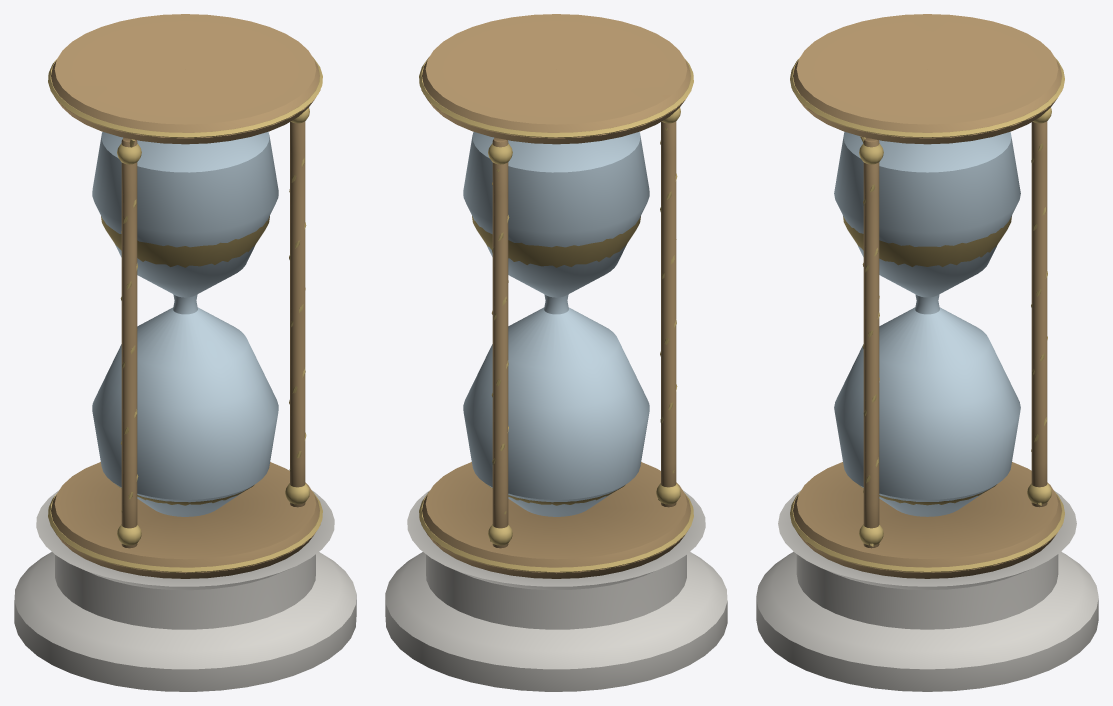
Rendered from obj_kit_hourglass.glb.
The picture shows the model from 3 angles, left to right: view 1: azimuth 30°, elevation 25°; view 2: azimuth 150°, elevation 25°; view 3: azimuth 270°, elevation 25°; orthographic projection.
Visible parts, largest first — view 1: glass, base, plate.001, plate, Cylinder.001, Cylinder.002, sandT, Torus, Torus.001; view 2: glass, base, plate.001, plate, Cylinder, Cylinder.001, sandT, Torus, Torus.001; view 3: glass, base, plate.001, plate, Cylinder.002, Cylinder, sandT, Torus.001, Torus.
Part boxes in pixels (left/top/right/bottom): glass: left=92, top=132, right=278, bottom=516; base: left=14, top=490, right=356, bottom=691; plate.001: left=51, top=14, right=320, bottom=144; plate: left=51, top=462, right=320, bottom=578; Cylinder.001: left=121, top=137, right=137, bottom=548; Cylinder.002: left=290, top=121, right=305, bottom=507; sandT: left=101, top=216, right=269, bottom=267; Torus: left=48, top=491, right=322, bottom=572; Torus.001: left=48, top=57, right=322, bottom=137; glass: left=463, top=132, right=649, bottom=516; base: left=385, top=490, right=727, bottom=691; plate.001: left=421, top=14, right=690, bottom=144; plate: left=421, top=462, right=690, bottom=578; Cylinder: left=492, top=137, right=508, bottom=548; Cylinder.001: left=661, top=121, right=676, bottom=507; sandT: left=472, top=216, right=640, bottom=267; Torus: left=419, top=491, right=693, bottom=572; Torus.001: left=419, top=57, right=693, bottom=137; glass: left=834, top=131, right=1020, bottom=516; base: left=756, top=490, right=1098, bottom=691; plate.001: left=792, top=14, right=1062, bottom=144; plate: left=792, top=462, right=1062, bottom=578; Cylinder.002: left=863, top=137, right=879, bottom=548; Cylinder: left=1031, top=121, right=1047, bottom=507; sandT: left=843, top=216, right=1011, bottom=266; Torus.001: left=790, top=57, right=1064, bottom=137; Torus: left=790, top=492, right=1064, bottom=572.
Bounding box in the file's own units: 1.1 × 1.95 × 1.1.
